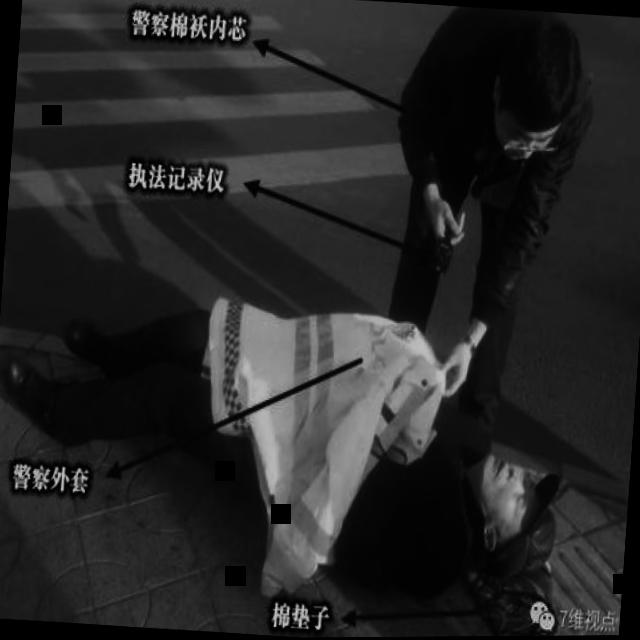Fall-Detected: (0, 244, 582, 640)
